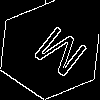M: (25, 25, 90, 86)
